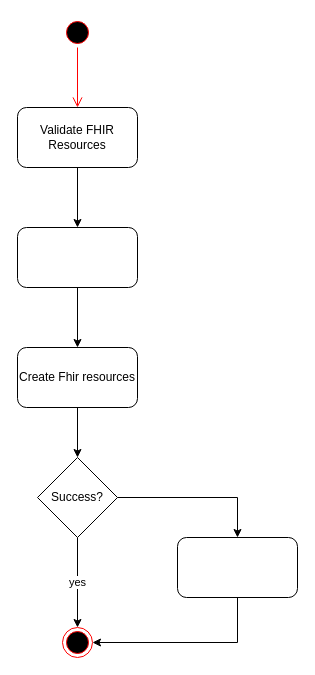
This 315x675 diagram has some shape labels left out. Each missing label, with the centre of its shape:
Move files to final destination: point (77, 257)
Rollback files: point (237, 567)
